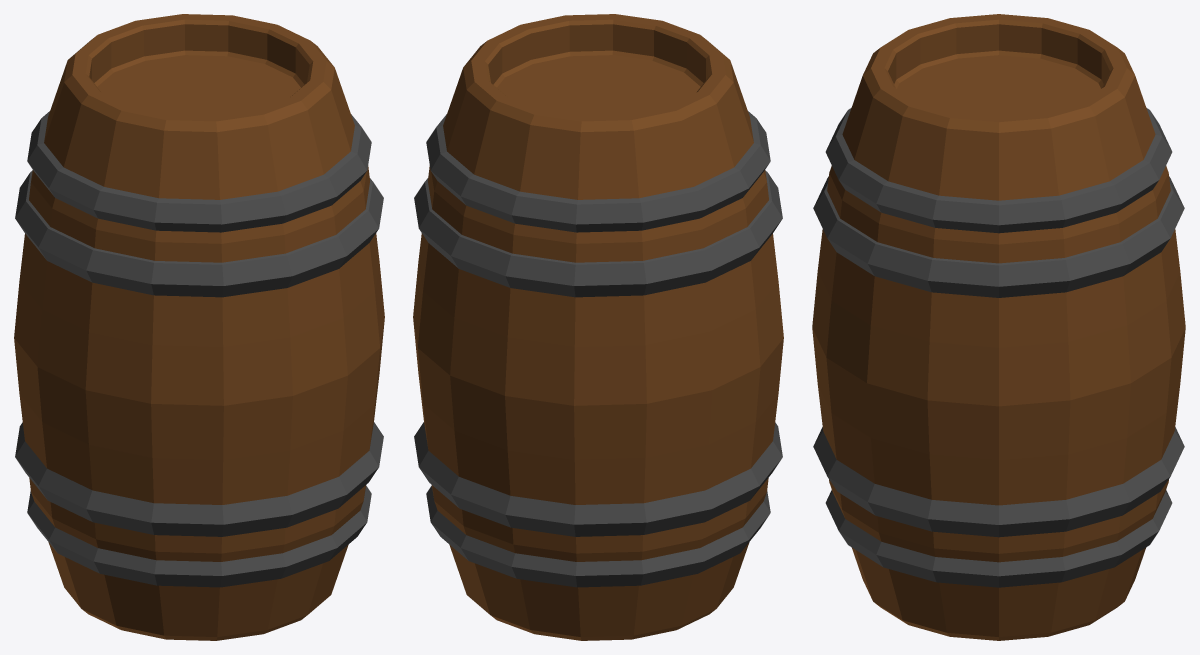
The model's file is Barrel.glb.
3 views of the same model, side by side, from view 1: azimuth 30°, elevation 25°; view 2: azimuth 150°, elevation 25°; view 3: azimuth 270°, elevation 25° (orthographic).
Parts seen in each view (by area): view 1: Cylinder; view 2: Cylinder; view 3: Cylinder.
Boxes of the visible parts, left/top/right/bottom form: Cylinder: left=14, top=14, right=384, bottom=640; Cylinder: left=413, top=14, right=783, bottom=640; Cylinder: left=812, top=14, right=1185, bottom=640.
Size of the model in its own units: 2.2 by 3.37 by 2.2.
